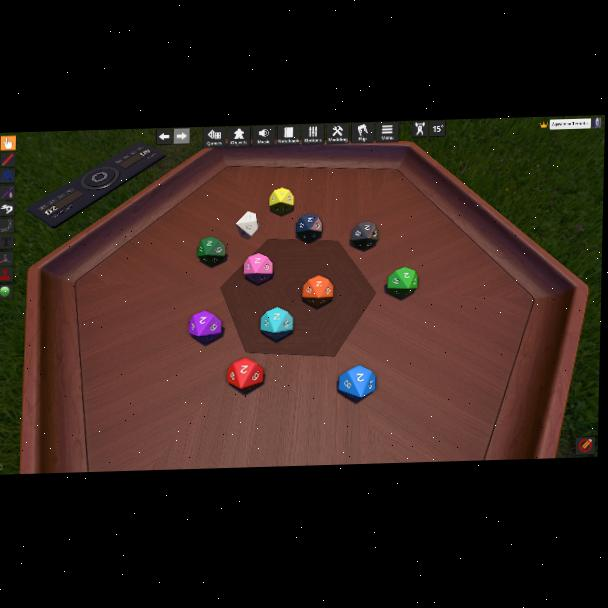d10: (226, 356, 265, 391), (337, 365, 375, 400), (259, 307, 294, 341), (188, 310, 221, 343), (302, 276, 334, 307), (243, 253, 273, 283), (386, 267, 415, 297), (350, 220, 379, 250), (295, 213, 323, 243), (196, 237, 224, 266), (269, 187, 294, 214), (235, 211, 259, 238)
